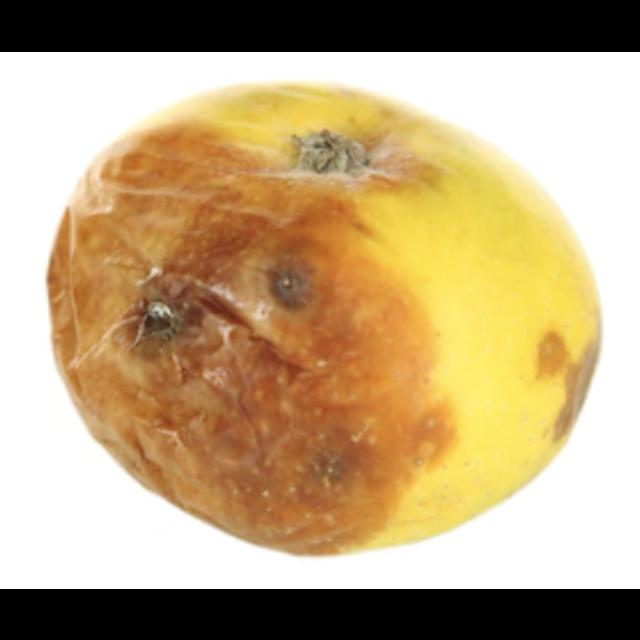Apel Tidak Segar: (41, 80, 601, 556)
